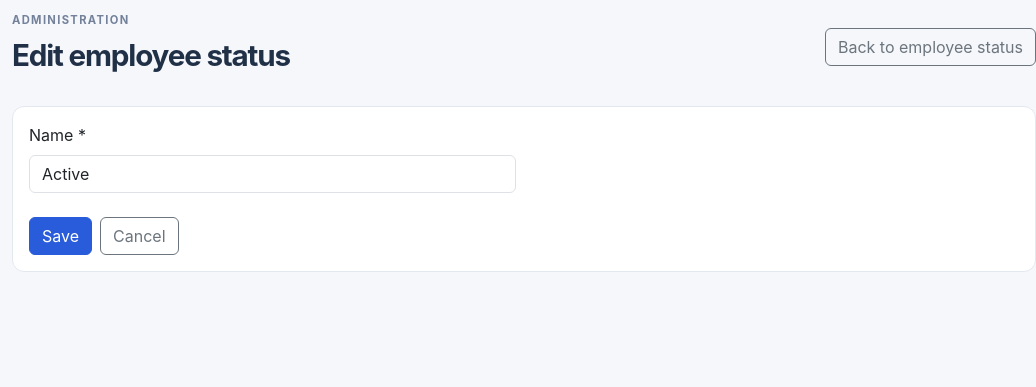
Test: shows API validation feedback on save
The width and height of the screenshot is (1036, 387).
What coordinates should you click on to do the following:
click the button "Save"
I would click on:
 (60, 236)
Its box is x1=29 y1=217 x2=92 y2=255.
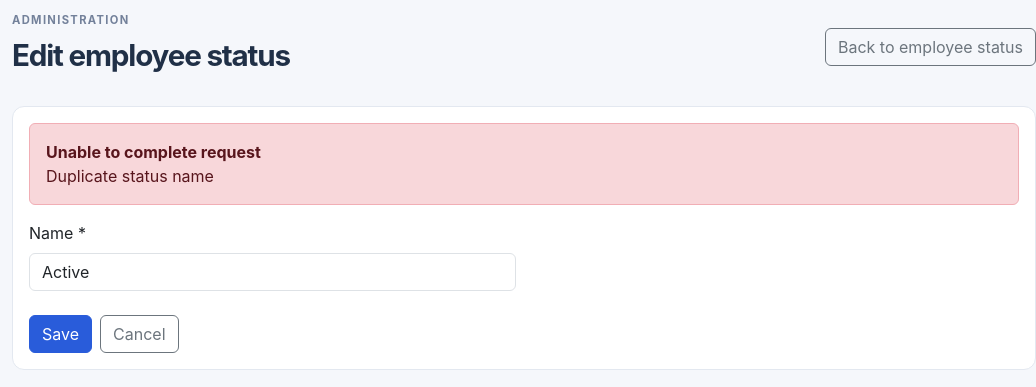
Expected: the text "Duplicate status name" is shown, x1=46 y1=166 x2=214 y2=186
